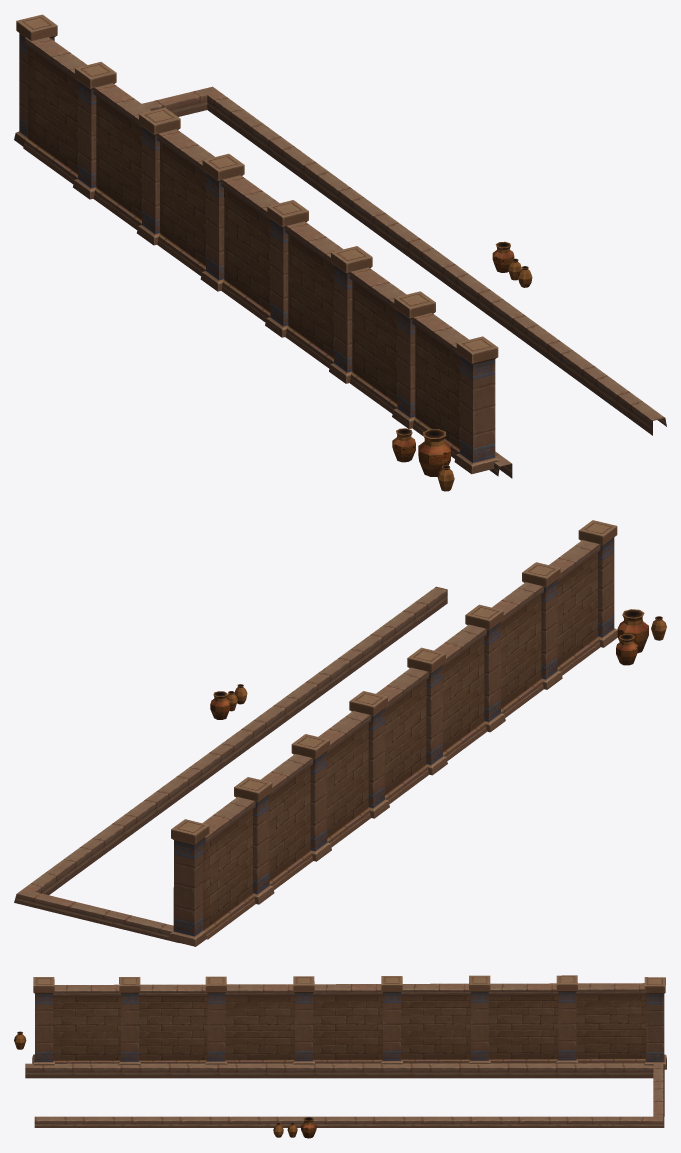
Rendered from Area_07_15.fbx.
3 renders of one model, top to bottom at view 1: azimuth 30°, elevation 25°; view 2: azimuth 150°, elevation 25°; view 3: azimuth 270°, elevation 25°, orthographic. The views are drawn at different scales.
Visible parts, largest first — view 1: Area_07_15; view 2: Area_07_15; view 3: Area_07_15.
Boxes of the visible parts, x1,y1,x2,y2 form: Area_07_15: (14,14,666,491); Area_07_15: (14,520,666,946); Area_07_15: (14,975,666,1138).
Bounding box in the file's own units: 1247 × 532 × 3514.
